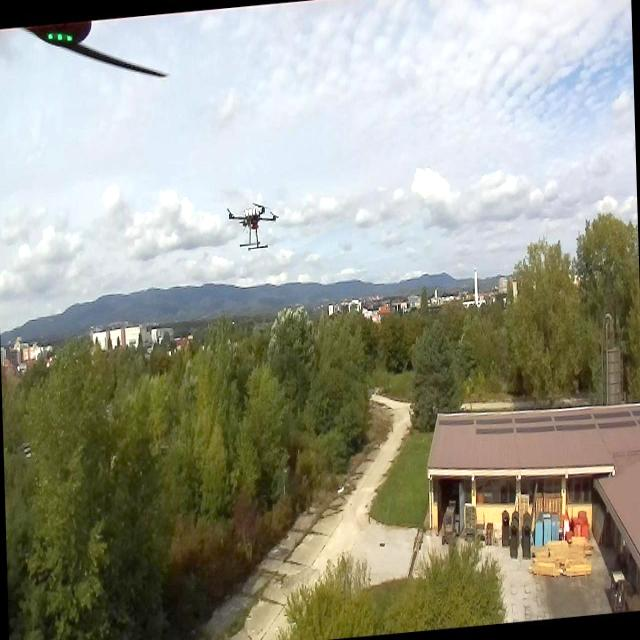drone: (222, 196, 279, 258)
